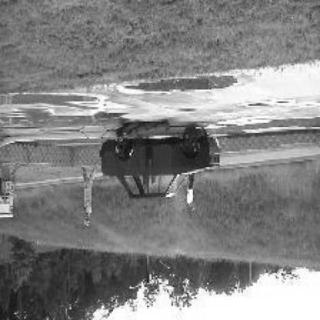Fire: (147, 134, 171, 146)
